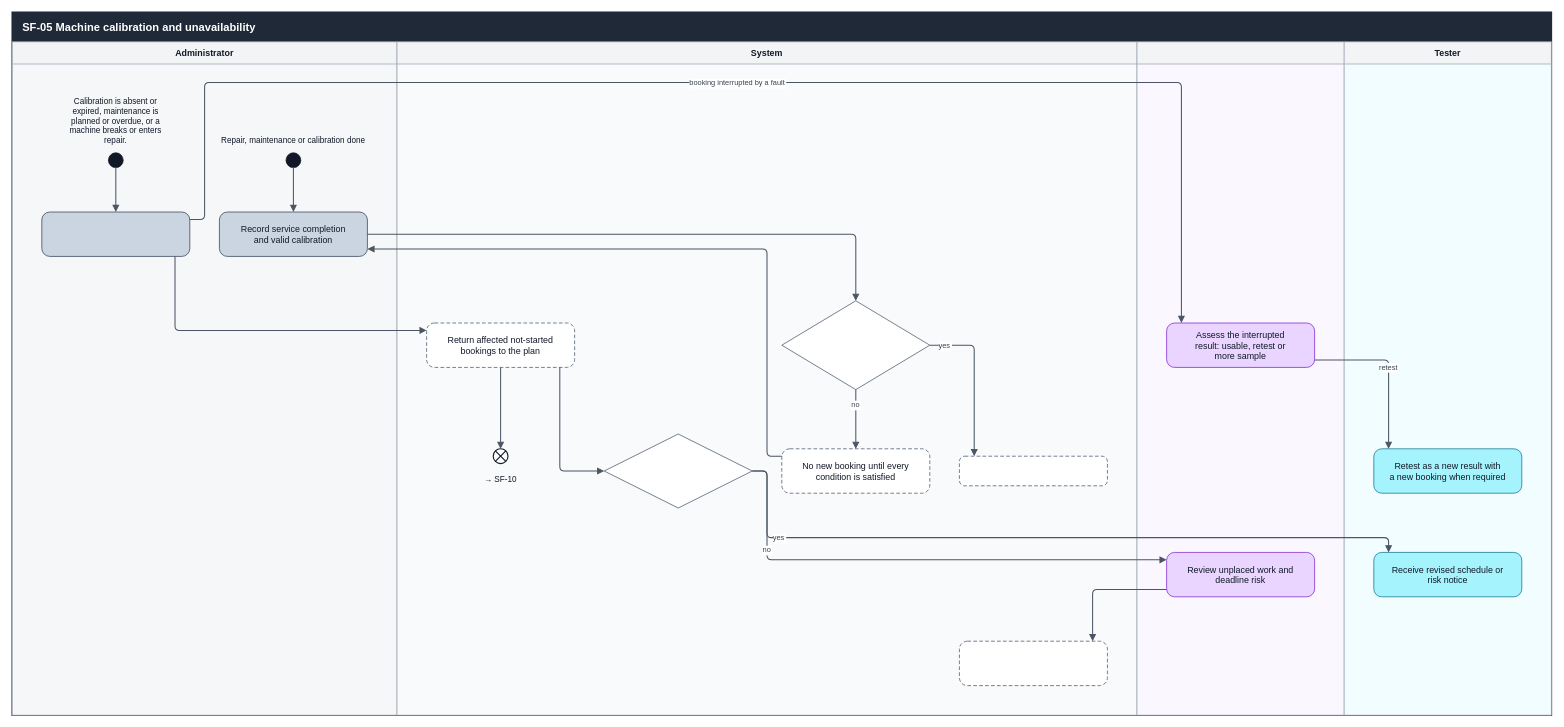
Some shapes in this 1564 by 727 pixel diagram are drawn without their labels. The box of each missing label's shape, as (x1, y1, x2, y2) in pixels:
All booking conditions satisfied?: (781, 300, 930, 390)
Head of Department: (1136, 41, 1344, 715)
Machine can be booked: (959, 455, 1107, 486)
Machine linked to the same method?: (603, 433, 752, 508)
Record calibration, maintenance or repair availability: (41, 211, 190, 256)
Stay unplaced; Sales handles customer impact: (959, 640, 1107, 686)
